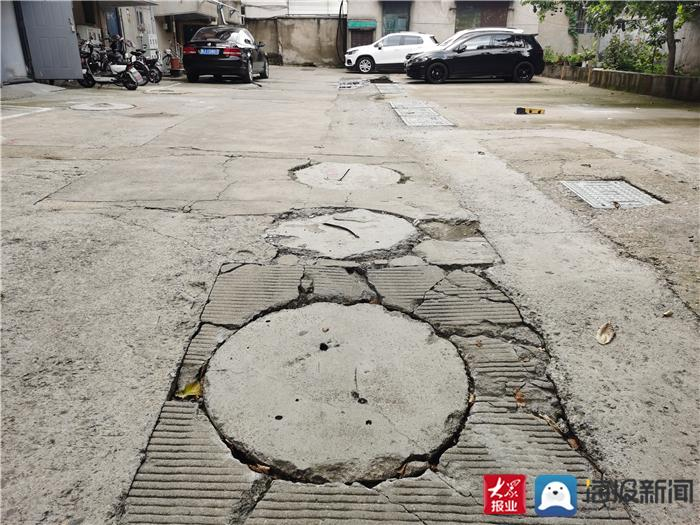broke: (156, 235, 568, 508)
